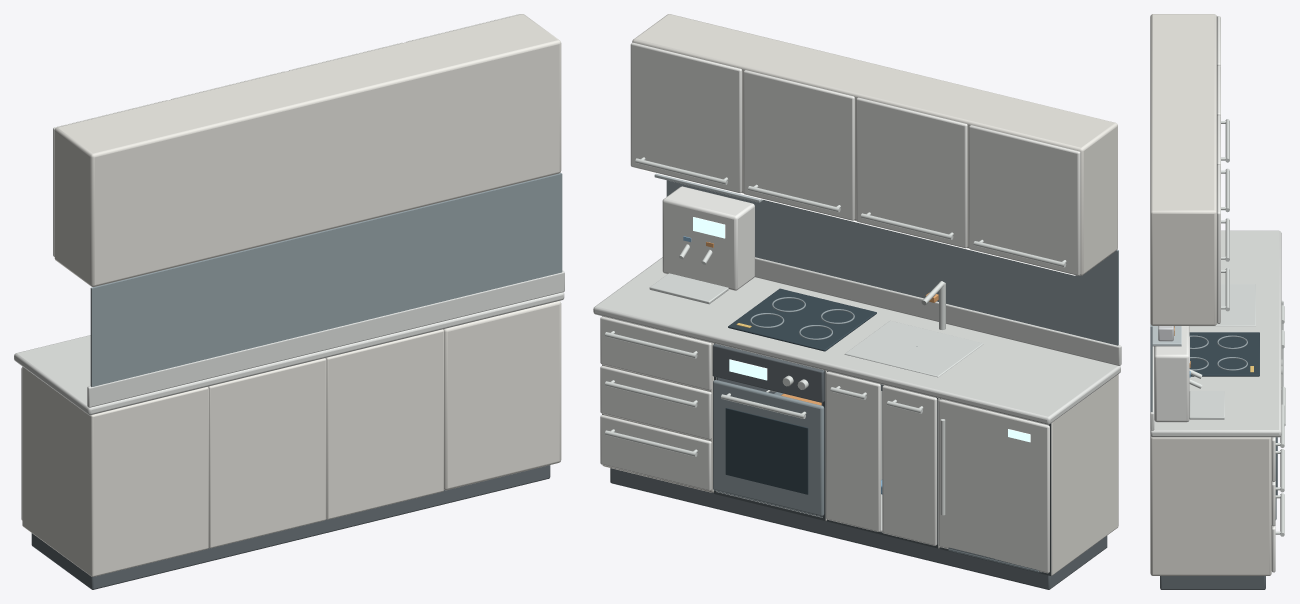
Rendered from galley_kitchenette.glb.
The picture shows the model from 3 angles, left to right: view 1: azimuth 30°, elevation 25°; view 2: azimuth 150°, elevation 25°; view 3: azimuth 270°, elevation 25°; orthographic projection. The views are drawn at different scales.
Visible parts, largest first — view 1: wall_cupboards_warm_shell, splashback_slate_panel, fridgebay_shell_warm_shell, ovenbay_shell_warm_shell, sinkbay_shell_warm_shell, drawerbay_block_warm_shell, upstand_worktop, worktop_worktop, plinth_graphite; view 2: worktop_worktop, wall_cupboards_warm_shell, splashback_slate_panel, fridge_door_white_painted, wall_door_3_door_white_painted, wall_door_0_door_white_painted, wall_door_1_door_white_painted, wall_door_2_door_white_painted, fridgebay_shell_warm_shell, sink_l_door_white_painted, sink_r_door_white_painted, rehydration_body_white_painted (+14 smaller); view 3: wall_cupboards_warm_shell, drawerbay_block_warm_shell, worktop_worktop, rehydration_body_white_painted, hob_dark_glass, plinth_graphite, sink_rim_satin_steel, drip_tray_satin_steel, wall_door_3_door_white_painted, hob_rings_slate_panel, pouch_shelf_alloy, upstand_worktop (+14 smaller).
Part boxes in pixels (x1,y1,x2,y2): wall_cupboards_warm_shell: [54, 14, 561, 286]; splashback_slate_panel: [90, 173, 562, 386]; fridgebay_shell_warm_shell: [22, 366, 208, 576]; ovenbay_shell_warm_shell: [325, 329, 443, 519]; sinkbay_shell_warm_shell: [208, 358, 326, 548]; drawerbay_block_warm_shell: [443, 301, 561, 490]; upstand_worktop: [87, 270, 564, 407]; worktop_worktop: [14, 292, 564, 415]; plinth_graphite: [31, 465, 550, 589]; worktop_worktop: [593, 257, 1120, 424]; wall_cupboards_warm_shell: [632, 14, 1117, 275]; splashback_slate_panel: [666, 180, 1118, 345]; fridge_door_white_painted: [938, 399, 1049, 573]; wall_door_3_door_white_painted: [630, 42, 742, 193]; wall_door_0_door_white_painted: [969, 125, 1080, 275]; wall_door_1_door_white_painted: [856, 97, 967, 248]; wall_door_2_door_white_painted: [743, 70, 854, 220]; fridgebay_shell_warm_shell: [1051, 374, 1118, 575]; sink_l_door_white_painted: [882, 385, 937, 545]; sink_r_door_white_painted: [826, 371, 880, 531]; rehydration_body_white_painted: [662, 186, 754, 290]; wall_cupboards_warm_shell: [1150, 14, 1216, 325]; drawerbay_block_warm_shell: [1150, 435, 1271, 575]; worktop_worktop: [1150, 230, 1281, 437]; rehydration_body_white_painted: [1154, 326, 1189, 422]; hob_dark_glass: [1189, 332, 1259, 376]; plinth_graphite: [1160, 576, 1265, 589]; sink_rim_satin_steel: [1189, 284, 1255, 326]; drip_tray_satin_steel: [1189, 391, 1224, 419]; wall_door_3_door_white_painted: [1217, 164, 1220, 323]; hob_rings_slate_panel: [1189, 335, 1247, 370]; pouch_shelf_alloy: [1152, 326, 1181, 346]; upstand_worktop: [1150, 346, 1154, 430].
Bounding box in the file's own units: 2.43 × 2.15 × 0.691.
